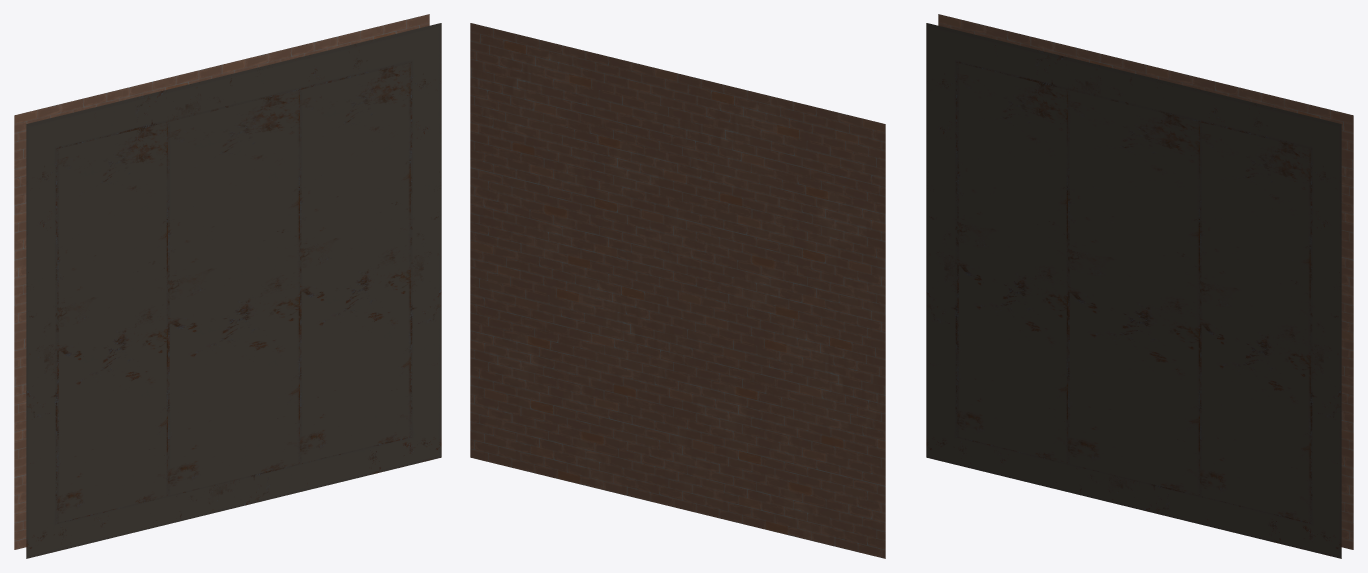
Rendered from Metal_Panel_4.gltf.
3 renders of one model, left to right at view 1: azimuth 30°, elevation 25°; view 2: azimuth 150°, elevation 25°; view 3: azimuth 330°, elevation 25°, orthographic.
Visible parts, largest first — view 1: Metal_Panel_4; view 2: Metal_Panel_4; view 3: Metal_Panel_4.
Part boxes in pixels (bbox=[...]): Metal_Panel_4: bbox=[14, 14, 441, 558]; Metal_Panel_4: bbox=[470, 23, 885, 558]; Metal_Panel_4: bbox=[926, 14, 1353, 558].
Bounding box in the file's own units: 4 × 4 × 0.2.
2 materials, 2 textured.
